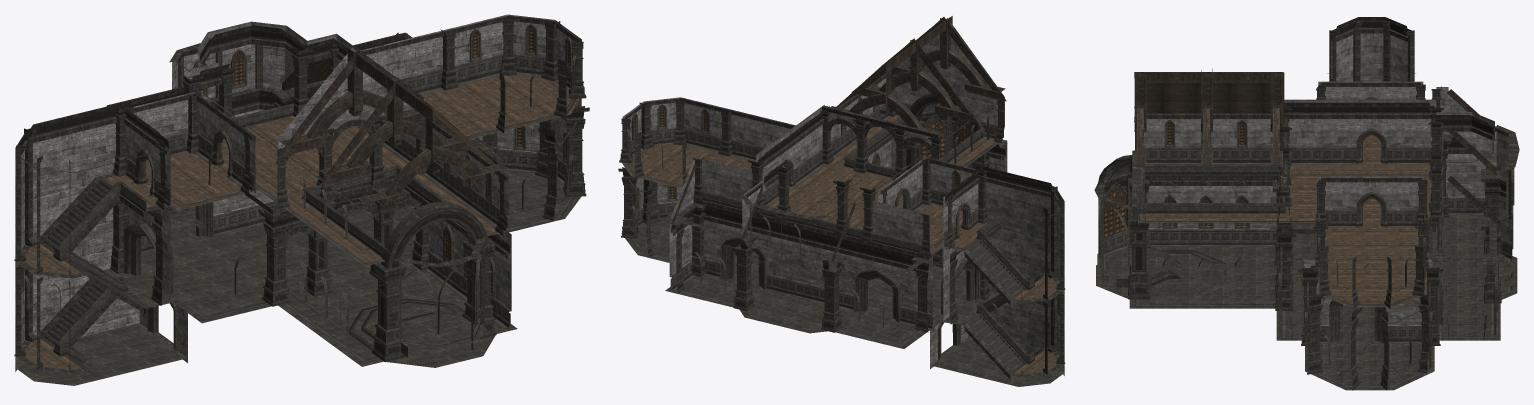
File: eso_gu4_LargeManor_Interior-transformed.glb
The picture shows the model from 3 angles, left to right: view 1: azimuth 30°, elevation 25°; view 2: azimuth 150°, elevation 25°; view 3: azimuth 270°, elevation 25°; orthographic projection. The views are drawn at different scales.
Visible parts, largest first — view 1: default; view 2: default; view 3: default.
Boxes of the visible parts, x1,y1,x2,y2 form: default: [14, 14, 589, 385]; default: [618, 16, 1065, 386]; default: [1094, 17, 1519, 390].
Size of the model in its own units: 66.18 by 35.02 by 50.79.
12 materials, 12 textured.
